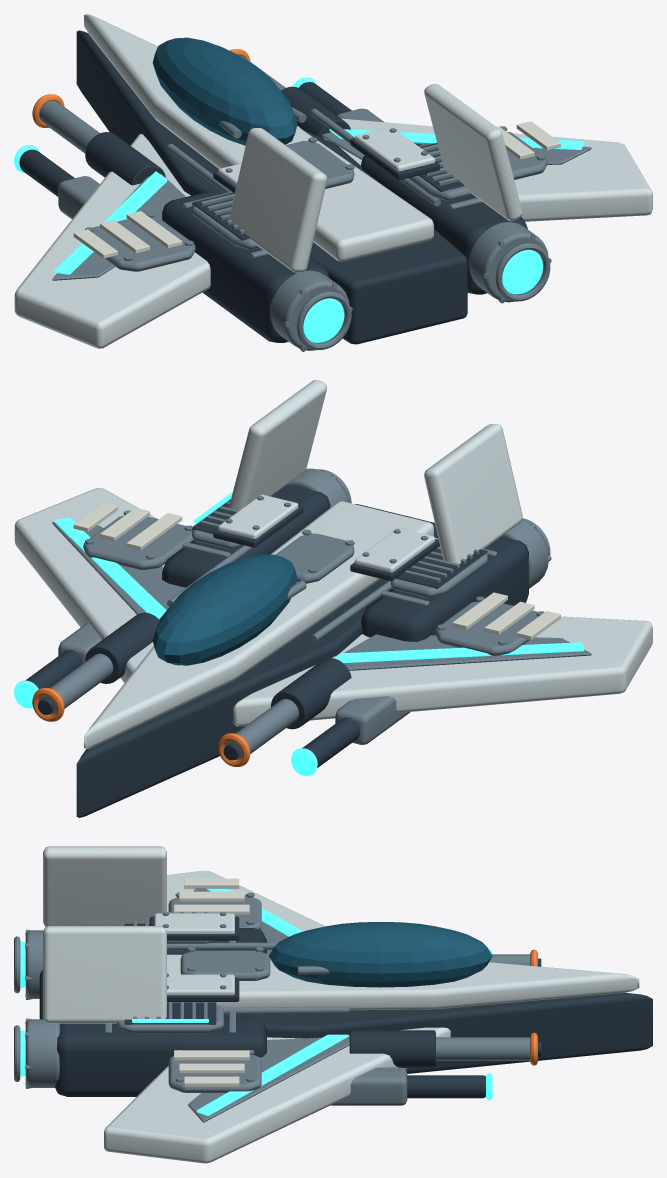
The model's file is Kestrel.fbx.
3 views of the same model, one above another, from view 1: azimuth 30°, elevation 25°; view 2: azimuth 150°, elevation 25°; view 3: azimuth 270°, elevation 25° (orthographic). The views are drawn at different scales.
Visible parts, largest first — view 1: Kestrel keel.004, Swept falcon wing.008, Pointed upper armor.004, Kestrel canopy.004, Canted tail.008, Swept falcon wing.009, Vented nacelle.008, Canted tail.009, Vented nacelle.009, Engine shroud.009, Engine shroud.008, Inset service armor.214 (+28 smaller); view 2: Swept falcon wing.008, Kestrel keel.004, Pointed upper armor.004, Kestrel canopy.004, Canted tail.008, Swept falcon wing.009, Vented nacelle.008, Canted tail.009, Vented nacelle.009, Blue wing inset.008, Inset service armor.216, Inset service armor.214 (+28 smaller); view 3: Kestrel keel.004, Swept falcon wing.009, Canted tail.009, Pointed upper armor.004, Kestrel canopy.004, Canted tail.008, Vented nacelle.009, Gun shroud.007, Blue wing inset.009, Inset service armor.218, Gun barrel.007, Engine shroud.009 (+23 smaller).
Part boxes in pixels (x1=…): Kestrel keel.004: x1=76, y1=30, x2=467, y2=344; Swept falcon wing.008: x1=14, y1=133, x2=210, y2=348; Pointed upper armor.004: x1=84, y1=14, x2=433, y2=261; Kestrel canopy.004: x1=152, y1=37, x2=297, y2=145; Canted tail.008: x1=228, y1=128, x2=326, y2=272; Swept falcon wing.009: x1=297, y1=118, x2=652, y2=221; Vented nacelle.008: x1=162, y1=191, x2=328, y2=342; Canted tail.009: x1=424, y1=84, x2=522, y2=220; Vented nacelle.009: x1=361, y1=143, x2=527, y2=294; Engine shroud.009: x1=469, y1=222, x2=548, y2=302; Engine shroud.008: x1=270, y1=270, x2=349, y2=350; Inset service armor.214: x1=92, y1=217, x2=195, y2=271; Swept falcon wing.008: x1=233, y1=616, x2=652, y2=726; Kestrel keel.004: x1=76, y1=504, x2=438, y2=817; Pointed upper armor.004: x1=84, y1=501, x2=433, y2=748; Kestrel canopy.004: x1=152, y1=554, x2=297, y2=665; Canted tail.008: x1=424, y1=424, x2=522, y2=563; Swept falcon wing.009: x1=14, y1=487, x2=164, y2=682; Vented nacelle.008: x1=361, y1=536, x2=528, y2=641; Canted tail.009: x1=229, y1=380, x2=326, y2=510; Vented nacelle.009: x1=162, y1=484, x2=330, y2=587; Blue wing inset.008: x1=344, y1=634, x2=591, y2=670; Inset service armor.216: x1=83, y1=516, x2=193, y2=569; Inset service armor.214: x1=435, y1=601, x2=538, y2=655; Kestrel keel.004: x1=39, y1=970, x2=652, y2=1073; Swept falcon wing.009: x1=104, y1=1027, x2=450, y2=1163; Canted tail.009: x1=43, y1=926, x2=166, y2=1023; Pointed upper armor.004: x1=167, y1=954, x2=639, y2=1010; Kestrel canopy.004: x1=269, y1=922, x2=492, y2=987; Canted tail.008: x1=43, y1=846, x2=166, y2=927; Vented nacelle.009: x1=55, y1=1016, x2=266, y2=1096; Gun shroud.007: x1=349, y1=1030, x2=435, y2=1067; Blue wing inset.009: x1=188, y1=1036, x2=349, y2=1122; Inset service armor.218: x1=180, y1=950, x2=270, y2=980; Gun barrel.007: x1=436, y1=1037, x2=530, y2=1060; Engine shroud.009: x1=25, y1=1019, x2=60, y2=1087.
Size of the model in its own units: 374 by 105 by 371.
